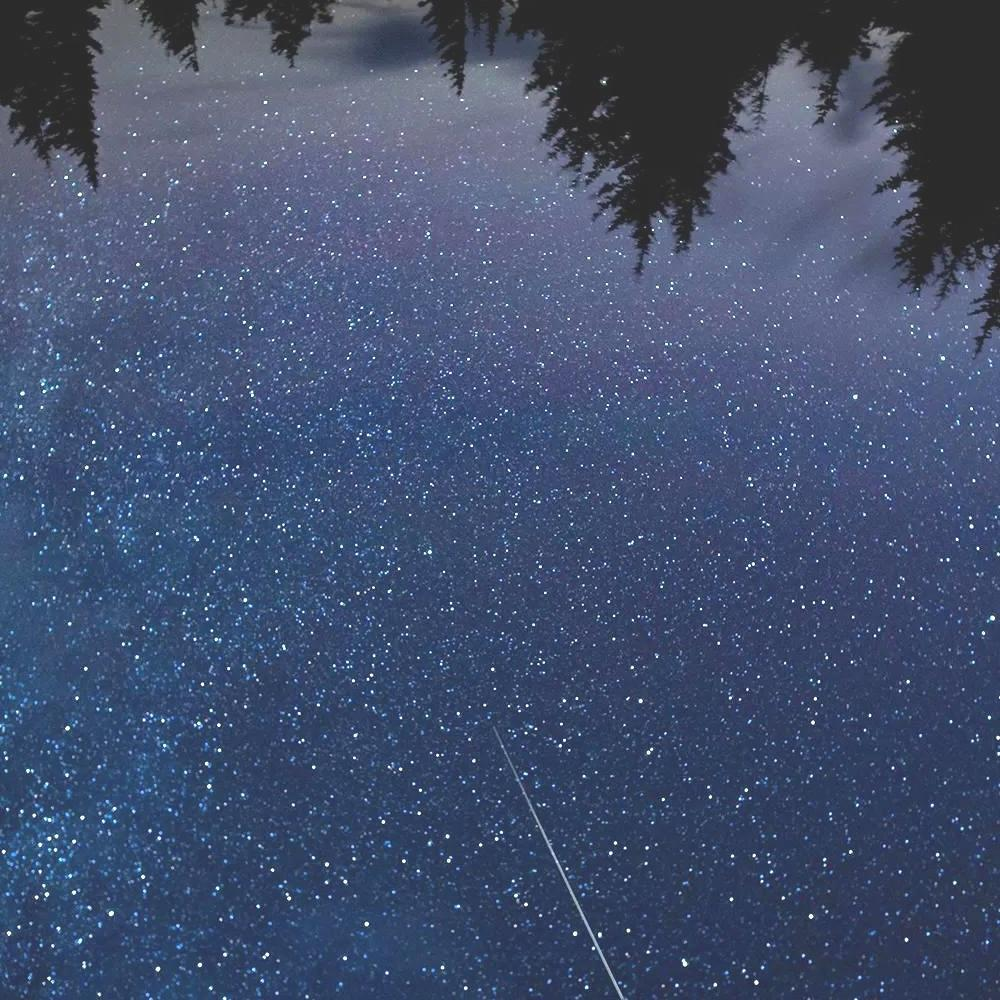meteorite: (462, 728, 651, 995)
